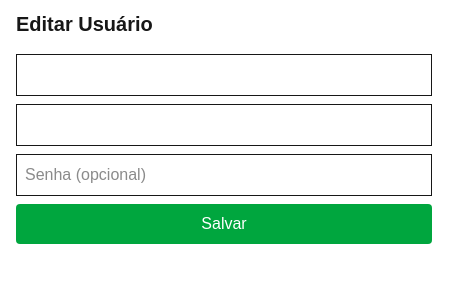
Test: EditUserPage › valida senha pequena
Type "123" into the password field with placeholder "Senha (opcional)" at (224,175), box [16, 154, 432, 196]
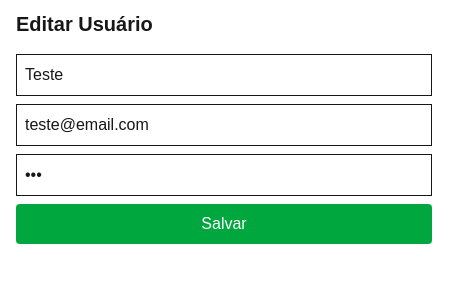
Click the button "Salvar" at (224,224), box [16, 204, 432, 244]
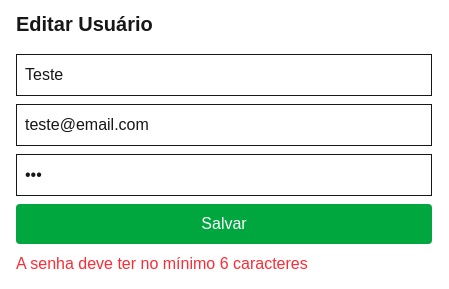
Result: the text "A senha deve ter no mínimo 6 caracteres" is shown at [16, 255, 308, 272]
